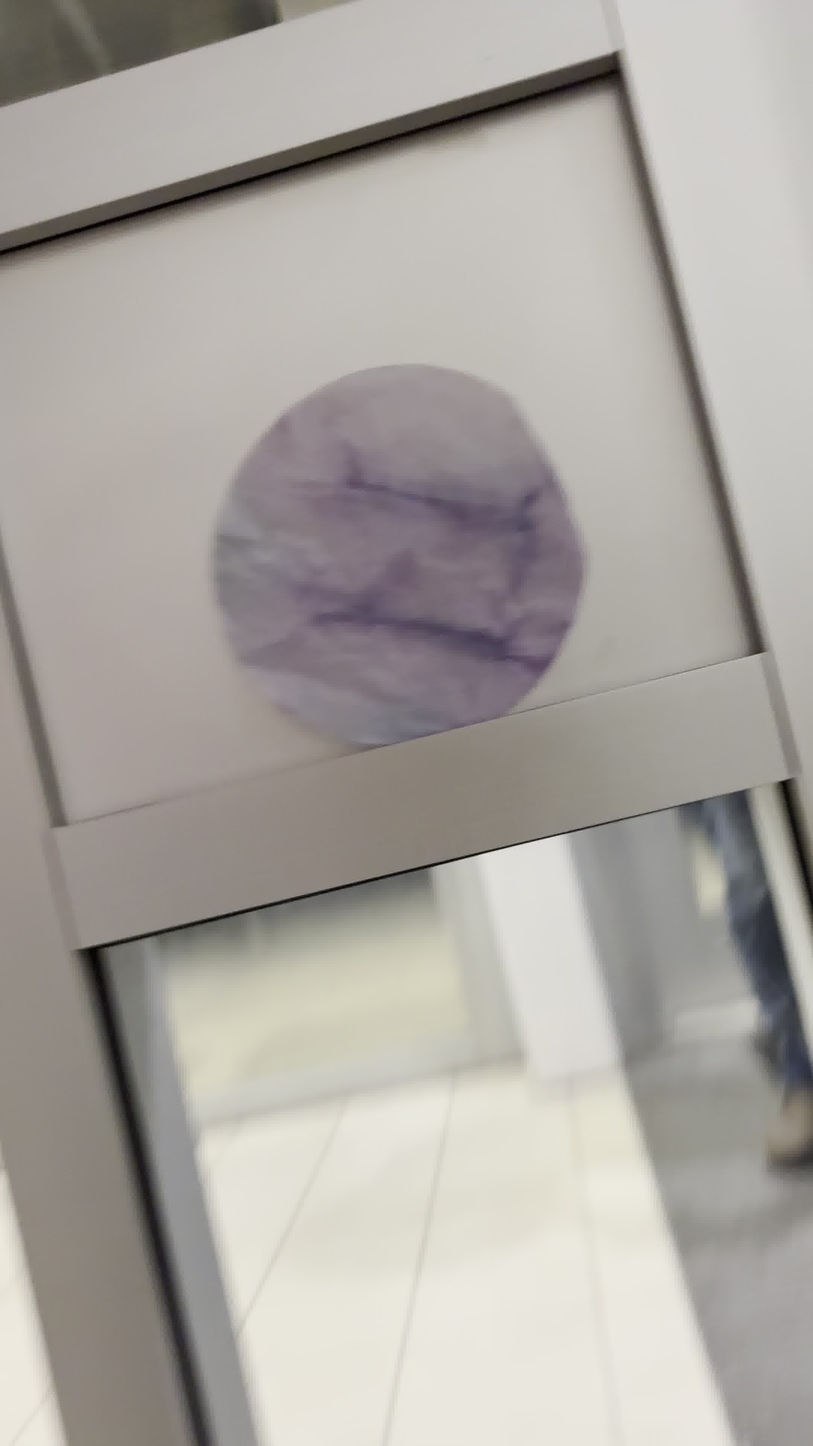Target: (192, 347, 607, 765)
